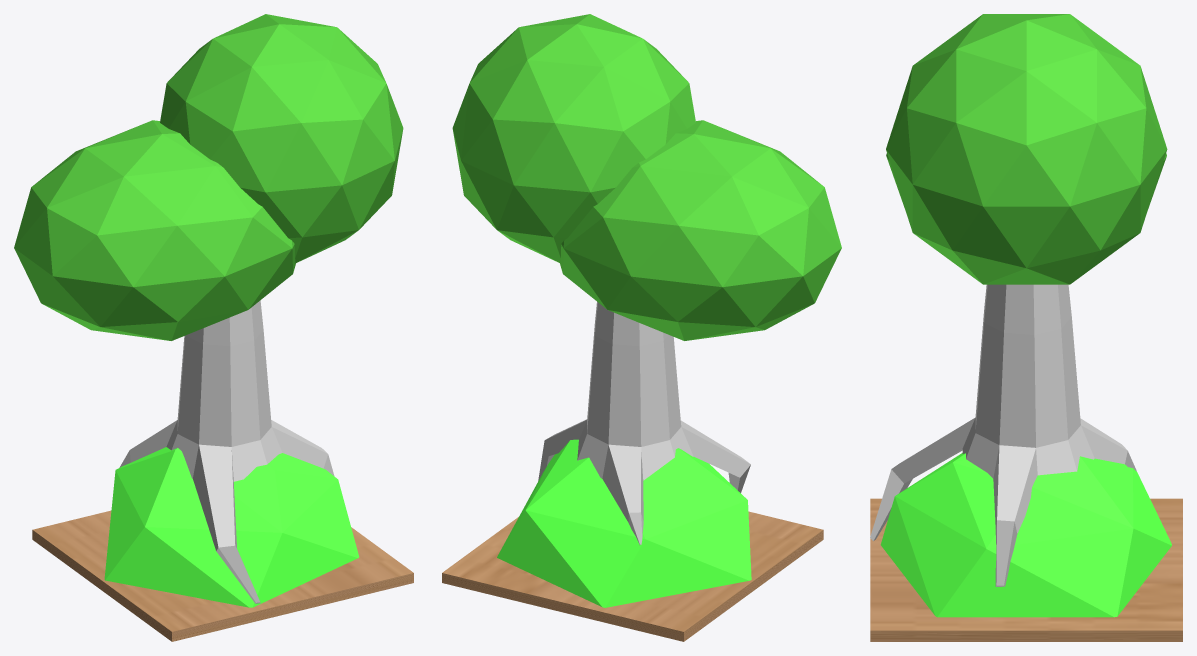
The model's file is Replicator.fbx.
3 renders of one model, left to right at view 1: azimuth 30°, elevation 25°; view 2: azimuth 150°, elevation 25°; view 3: azimuth 270°, elevation 25°, orthographic. The views are drawn at different scales.
Visible parts, largest first — view 1: Icosphere.001, Icosphere, Cylinder, Cube; view 2: Icosphere.001, Icosphere, Cylinder, Cube; view 3: Icosphere.001, Icosphere, Cylinder, Cube.
Part boxes in pixels (x1,y1,x2,y2): Icosphere.001: (14, 14, 403, 340); Icosphere: (104, 447, 359, 607); Cylinder: (119, 300, 334, 603); Cube: (32, 510, 413, 641); Icosphere.001: (452, 14, 841, 340); Icosphere: (497, 439, 751, 607); Cylinder: (538, 302, 750, 544); Cube: (442, 511, 823, 641); Icosphere.001: (886, 14, 1167, 284); Icosphere: (880, 453, 1171, 617); Cylinder: (870, 284, 1136, 586); Cube: (870, 498, 1182, 641).
Bounding box in the file's own units: 578 × 825 × 399.
